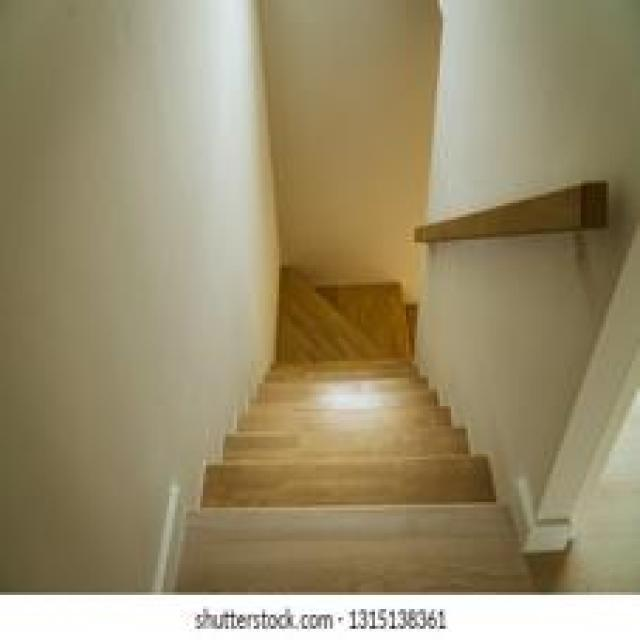stairs: (166, 262, 538, 592)
